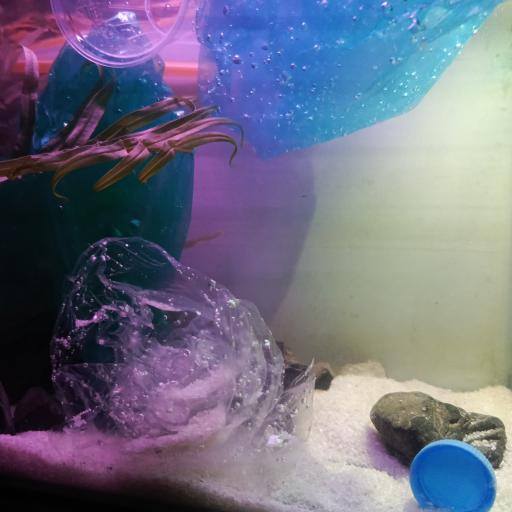bottle_cap: (408, 439, 497, 512)
plastic_bag: (48, 236, 317, 486), (0, 14, 189, 325), (198, 0, 497, 158)
plastic_cup: (47, 0, 191, 67)
plastic_straw: (12, 56, 198, 80)
